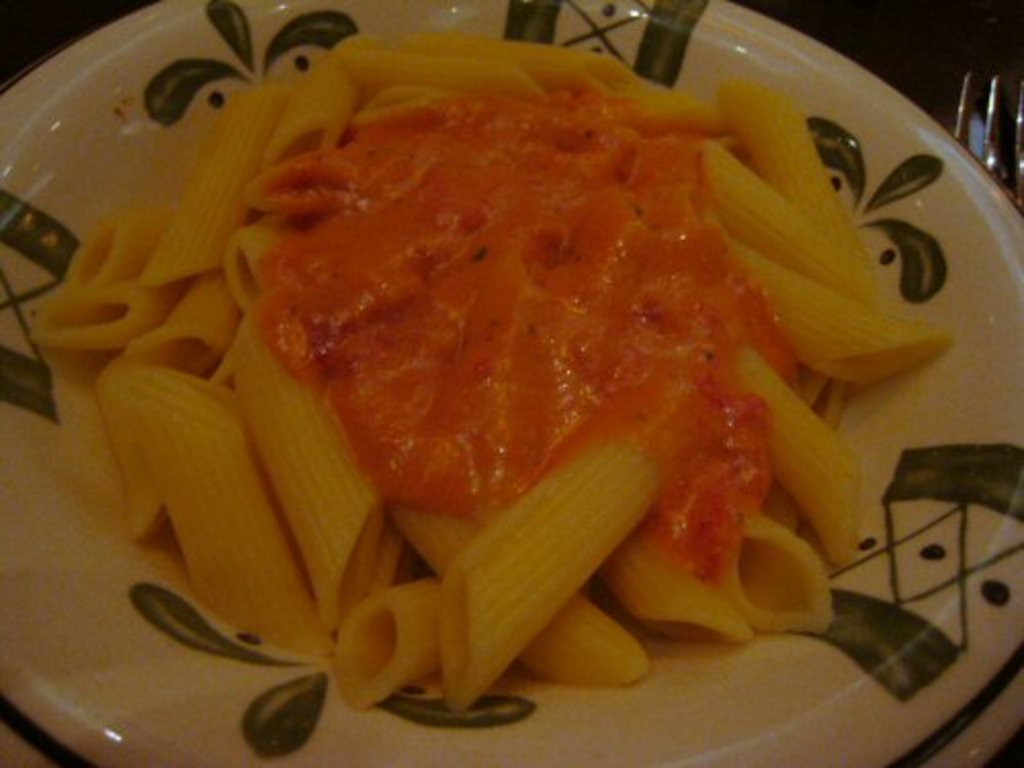pasta: (29, 31, 956, 715)
